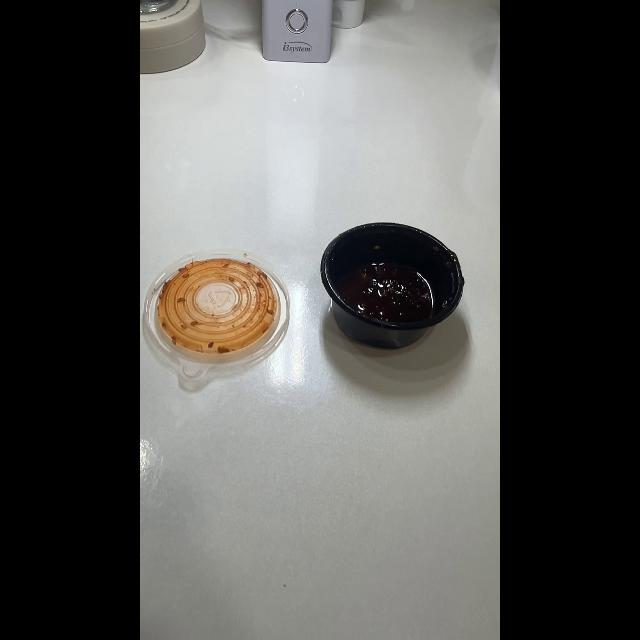dirty: (320, 222, 464, 350), (142, 250, 288, 372)
